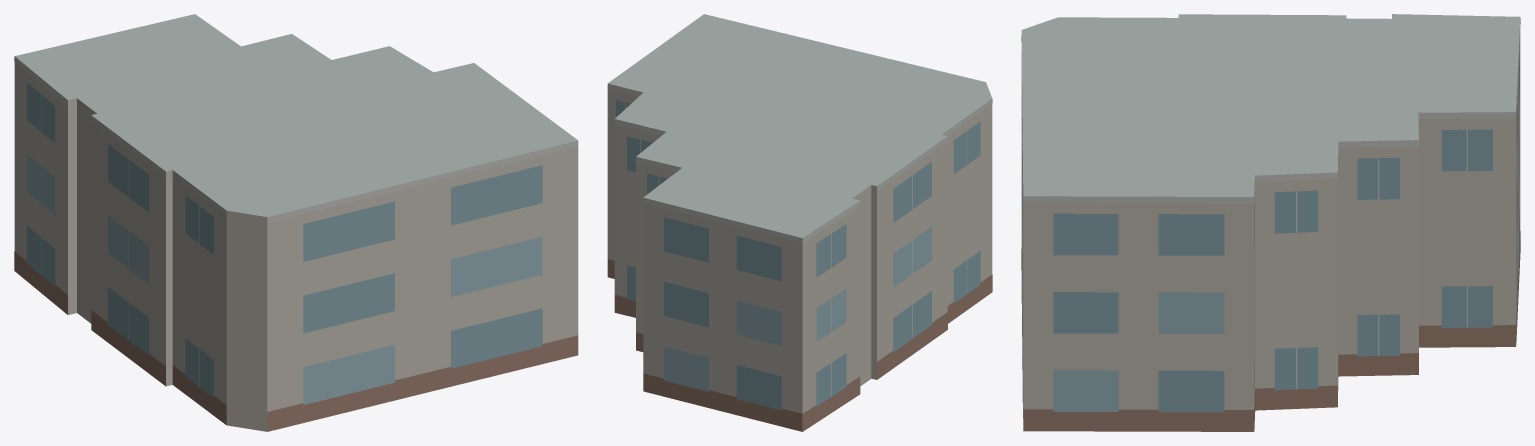
File: survey-upis-32604825.glb
The picture shows the model from 3 angles, left to right: view 1: azimuth 30°, elevation 25°; view 2: azimuth 150°, elevation 25°; view 3: azimuth 270°, elevation 25°; orthographic projection. The views are drawn at different scales.
Parts seen in each view (by area): view 1: survey-upis-32604825.tmp; view 2: survey-upis-32604825.tmp; view 3: survey-upis-32604825.tmp.
Boxes of the visible parts, left/top/right/bottom form: survey-upis-32604825.tmp: left=14, top=14, right=578, bottom=431; survey-upis-32604825.tmp: left=607, top=14, right=992, bottom=431; survey-upis-32604825.tmp: left=1021, top=14, right=1520, bottom=431.
Size of the model in its own units: 15.3 by 9.15 by 17.62.
